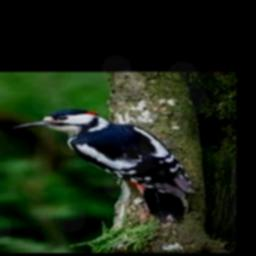Woodpecker: (13, 109, 195, 225)
